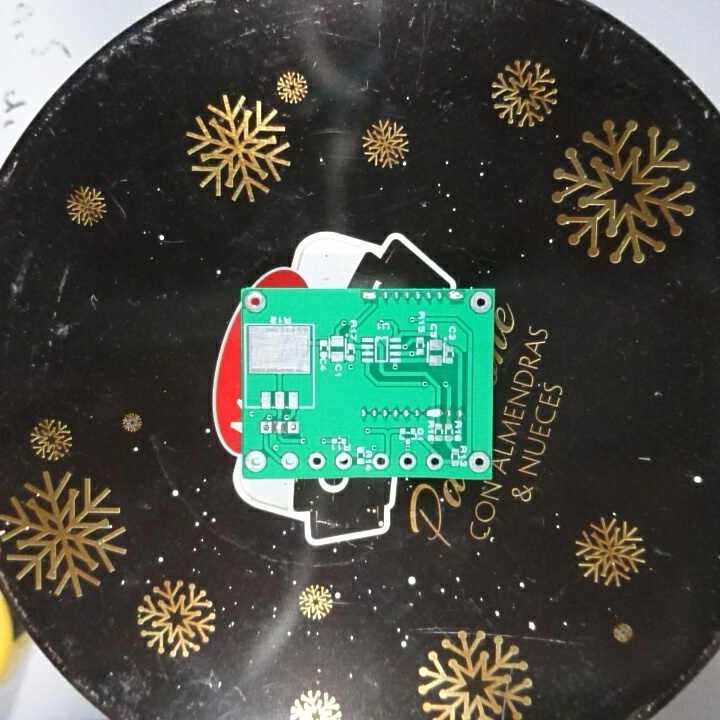F: (241, 289, 269, 315), (467, 290, 493, 317), (243, 447, 270, 471), (467, 449, 490, 474), (369, 450, 392, 471), (332, 449, 353, 471), (424, 450, 444, 472), (279, 451, 299, 472), (305, 449, 324, 471), (398, 451, 415, 472), (258, 419, 275, 436), (284, 418, 300, 436)
P: (423, 404, 444, 423), (359, 288, 379, 305), (446, 289, 464, 307)
